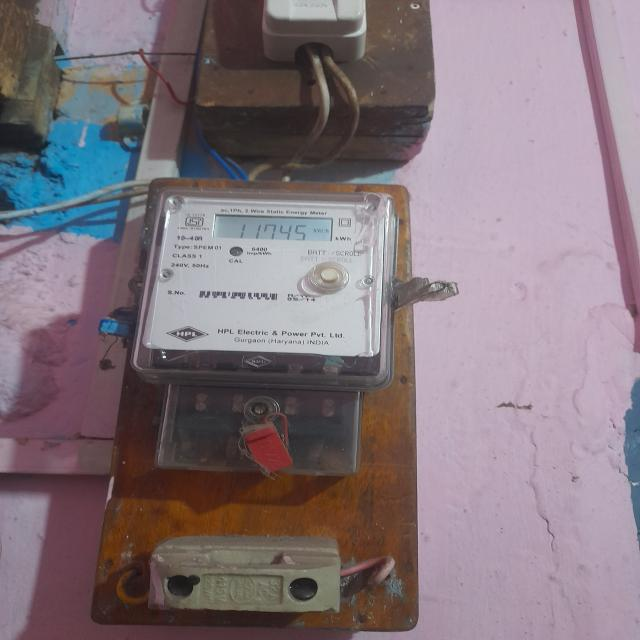display: (205, 208, 345, 247)
